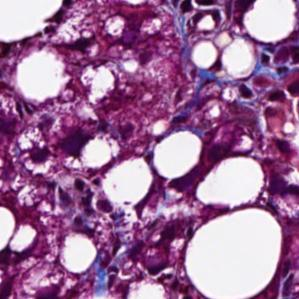inflammation: (50, 175, 117, 221), (95, 236, 152, 278), (172, 0, 228, 32), (253, 44, 299, 79)
